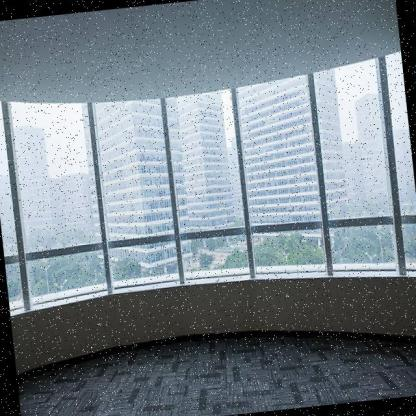Window: (0, 47, 416, 318)
